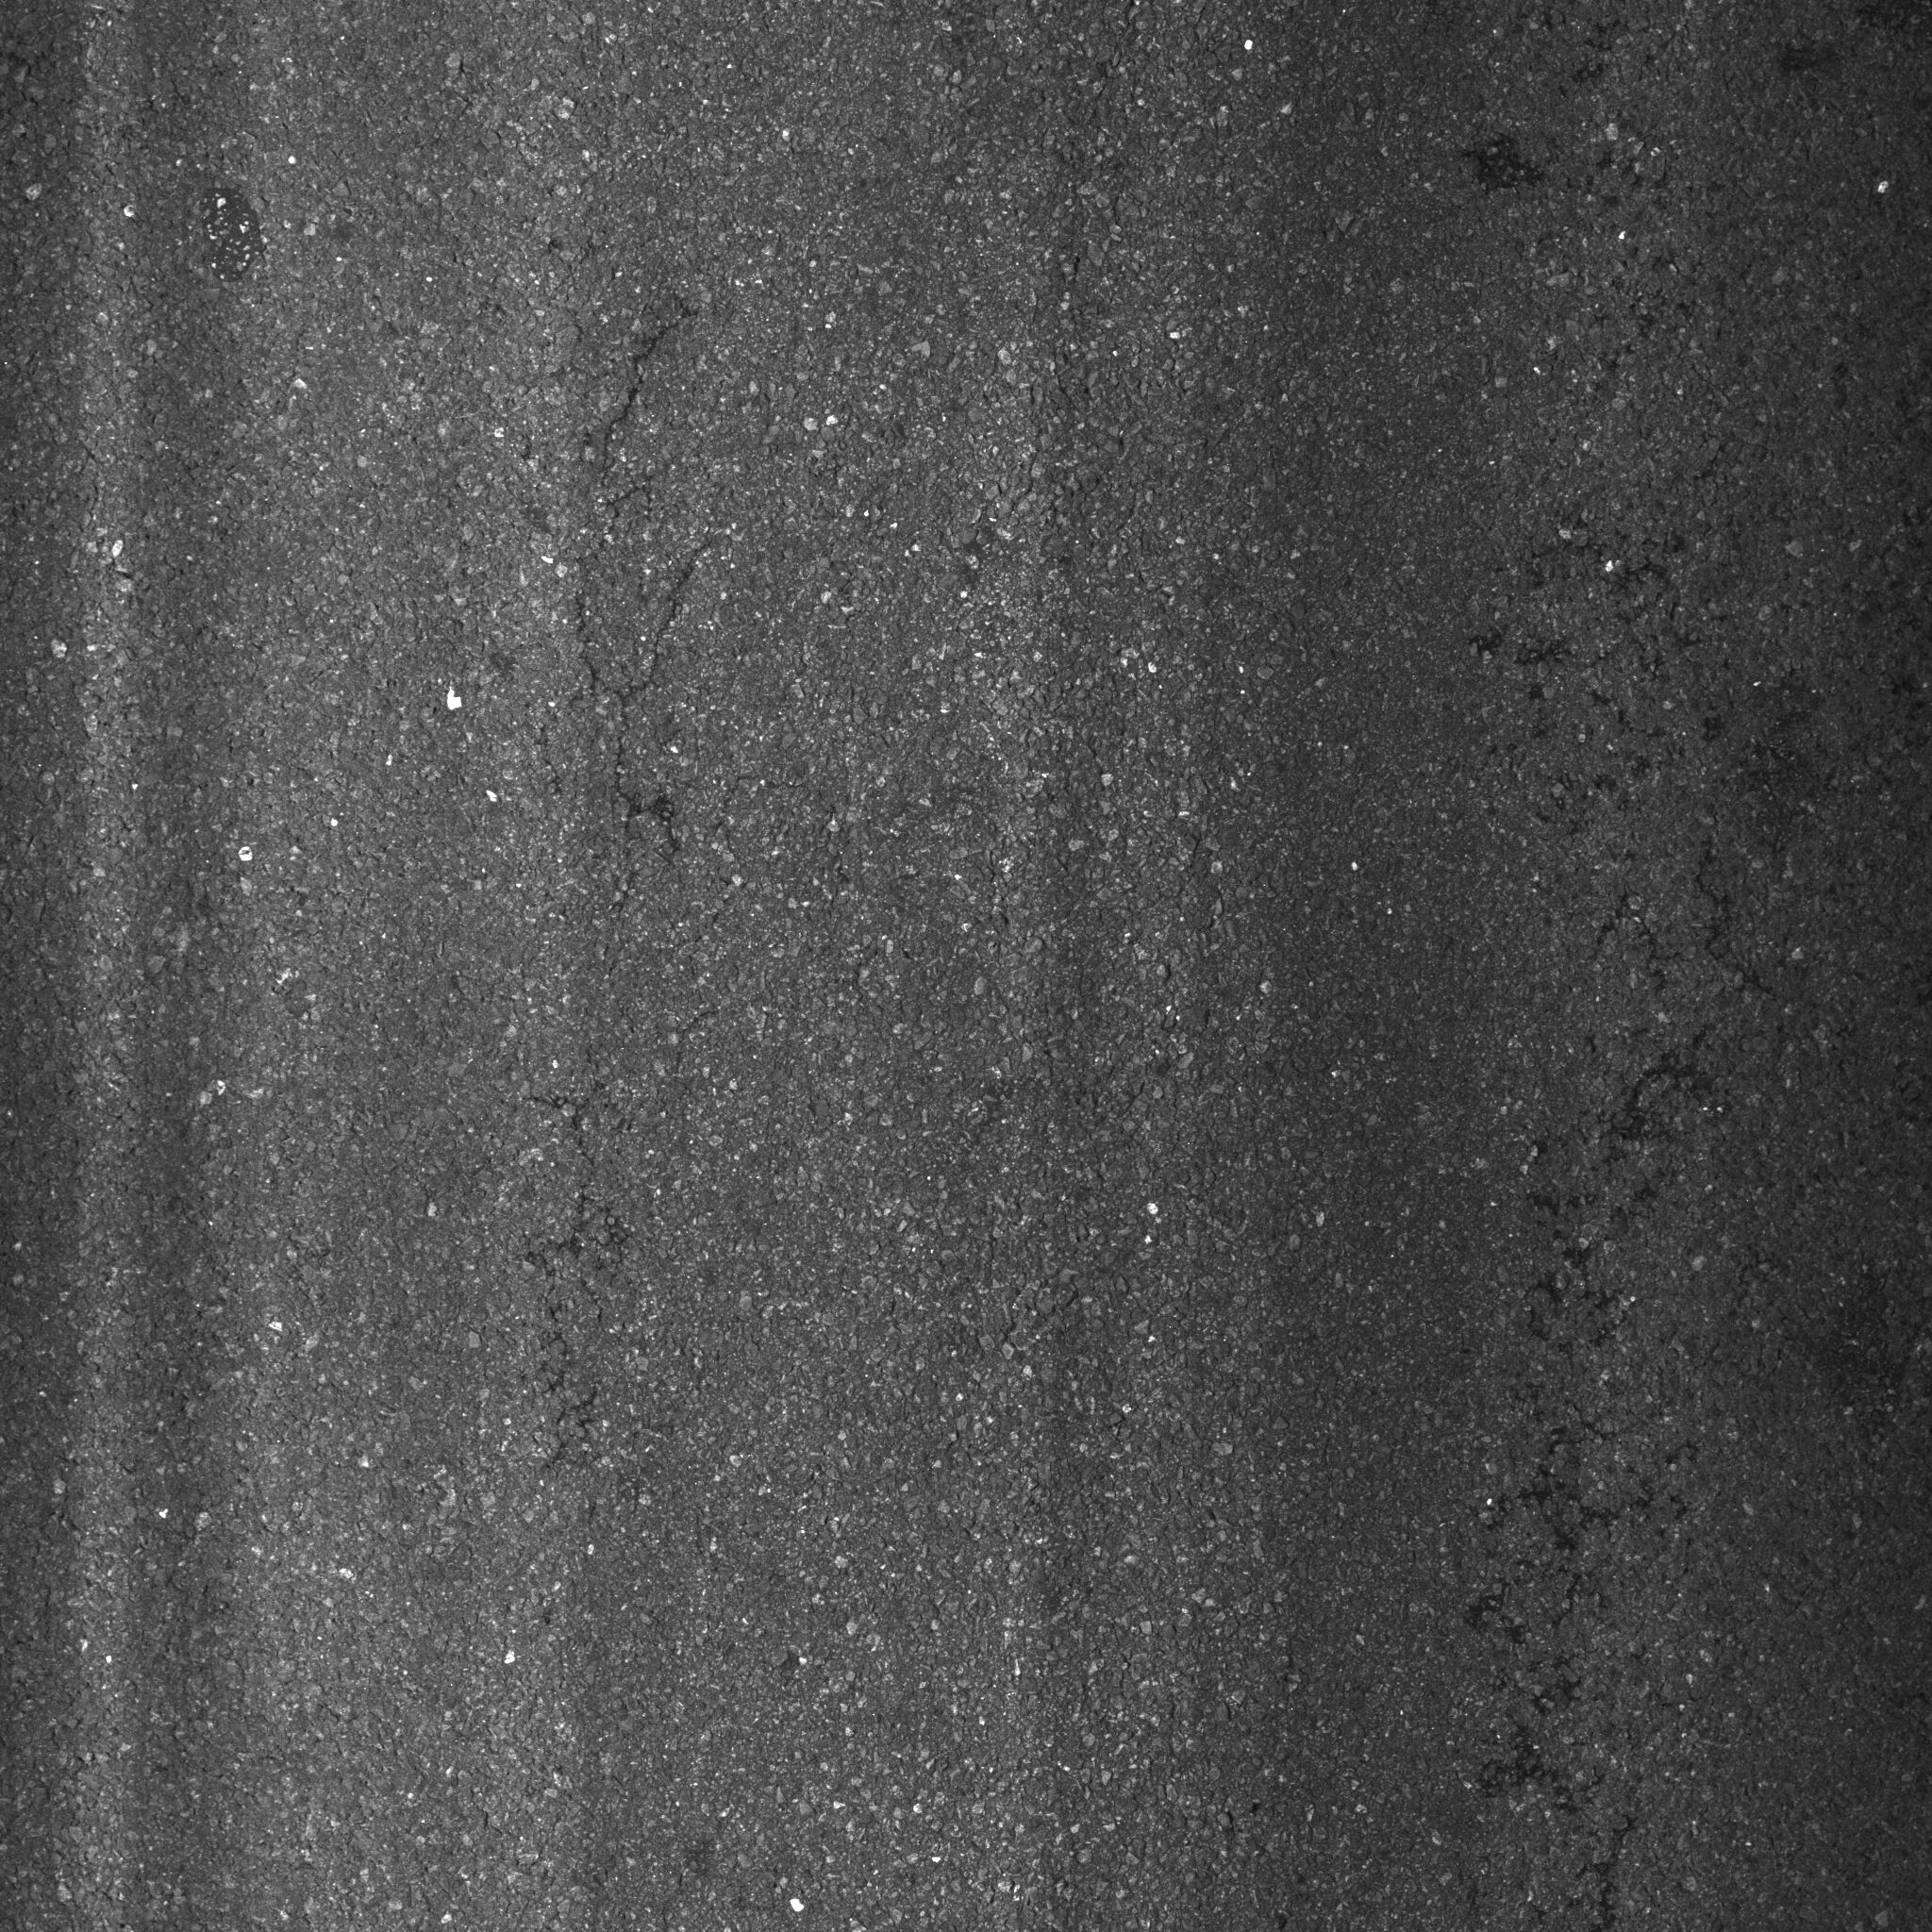longitudinal: (518, 267, 686, 1440)
